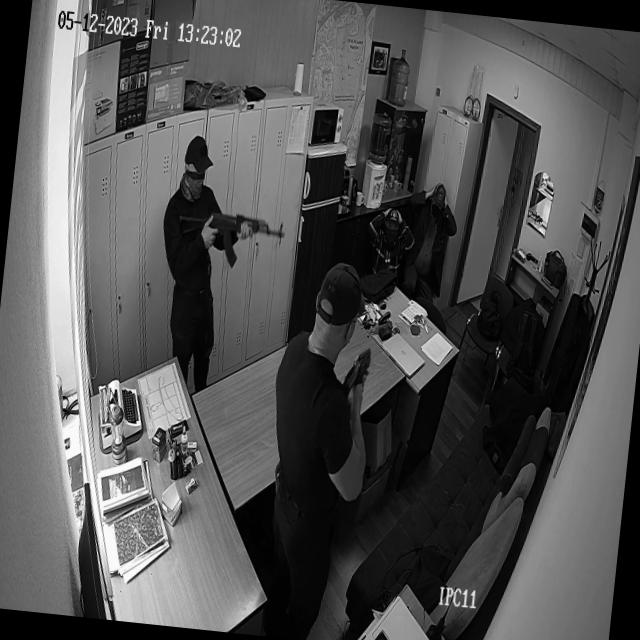gun: (208, 191, 290, 255), (358, 291, 404, 364)
person: (415, 182, 454, 251), (368, 200, 402, 244)
person with a gun: (251, 240, 390, 628), (138, 128, 249, 399)
